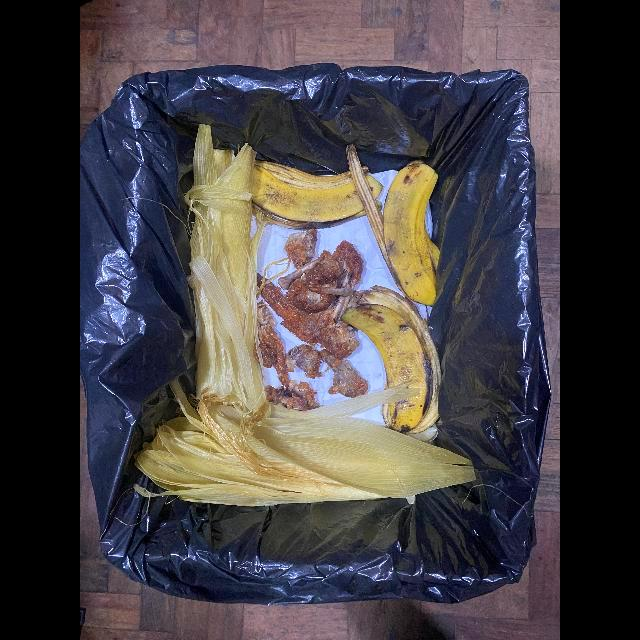left_over_food: (258, 240, 369, 410), (285, 225, 319, 270)
